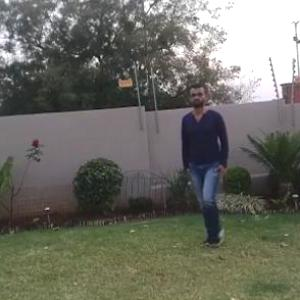follow: (182, 87, 230, 228)
